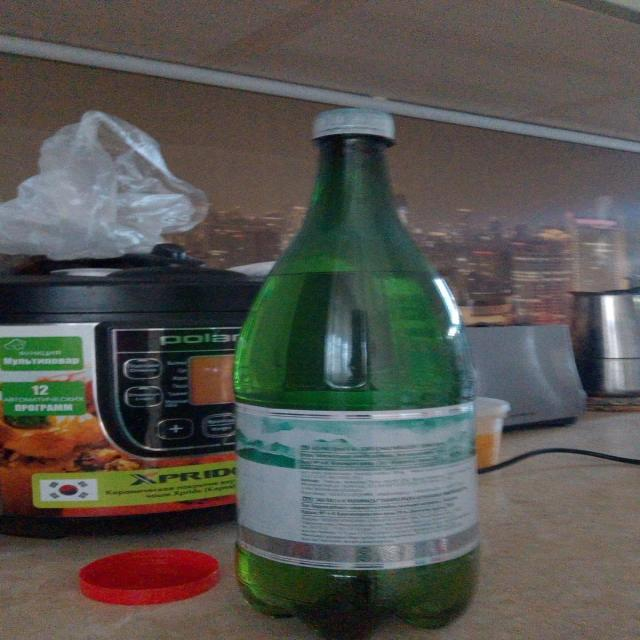high: (236, 109, 478, 640)
